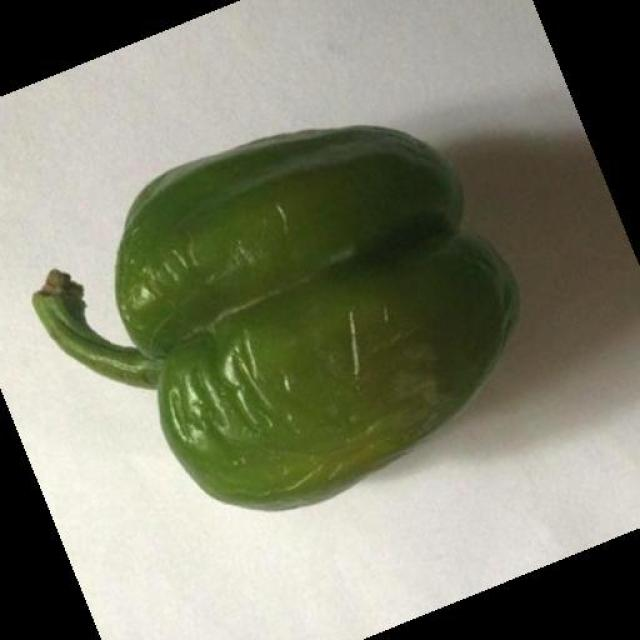Stale_Capsicum: (70, 89, 535, 495)
